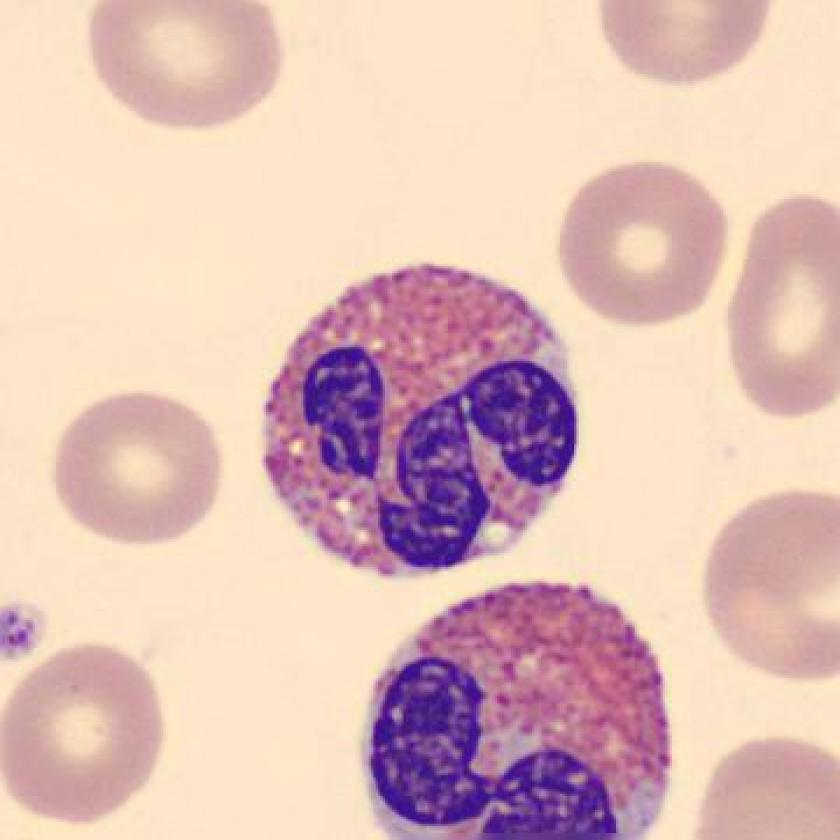eosinophil: (253, 247, 589, 594)
